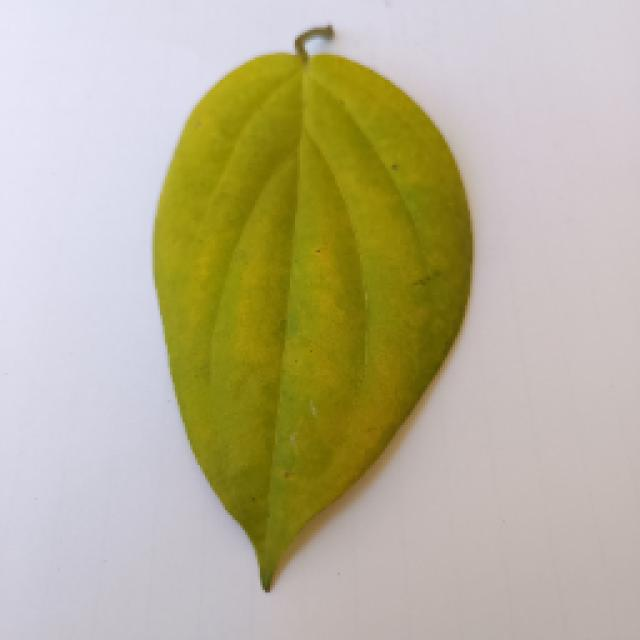slow-decline: (132, 28, 490, 590)
